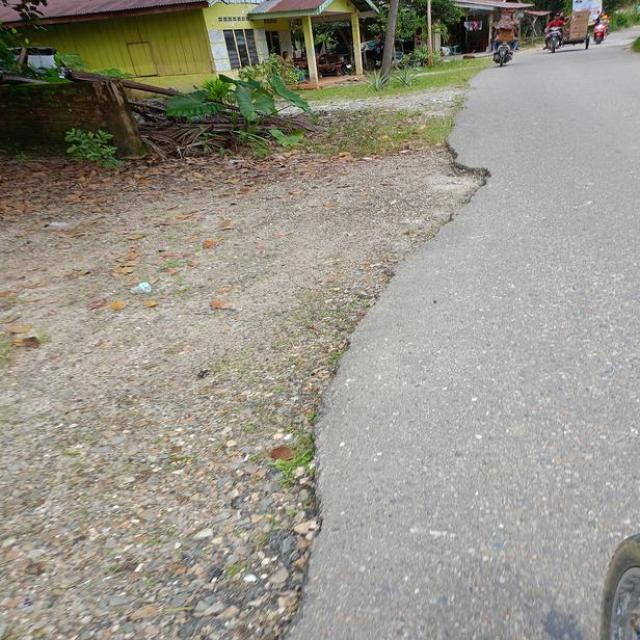Pinggir: (263, 135, 506, 640)
